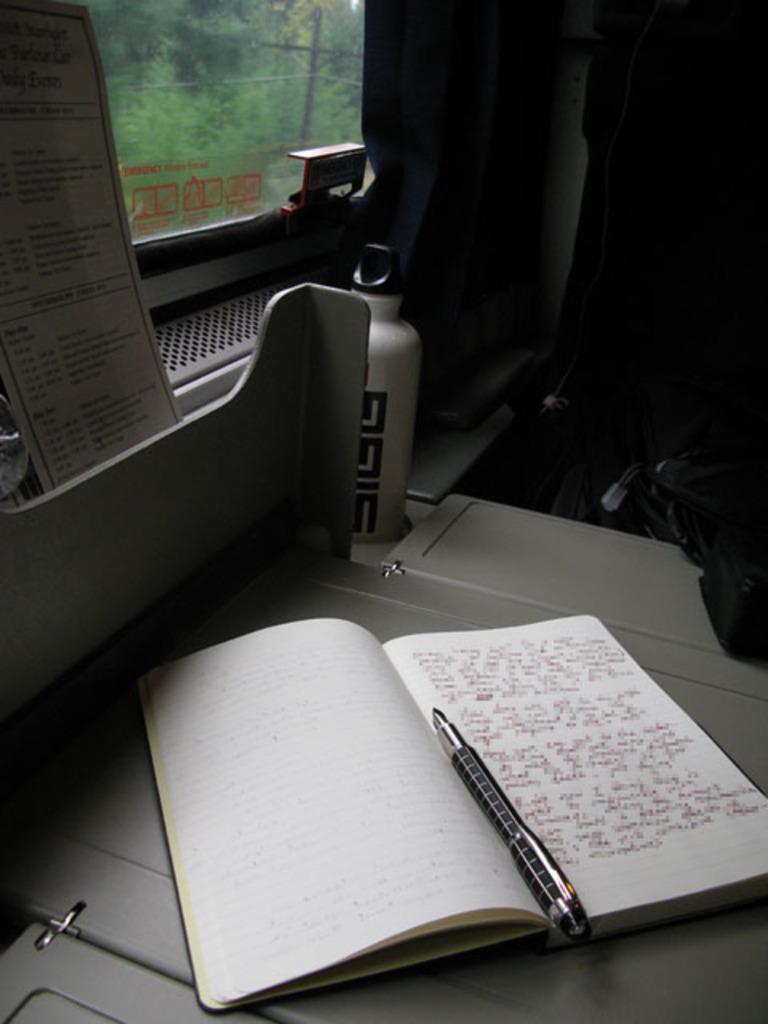Book: (131, 595, 594, 986)
